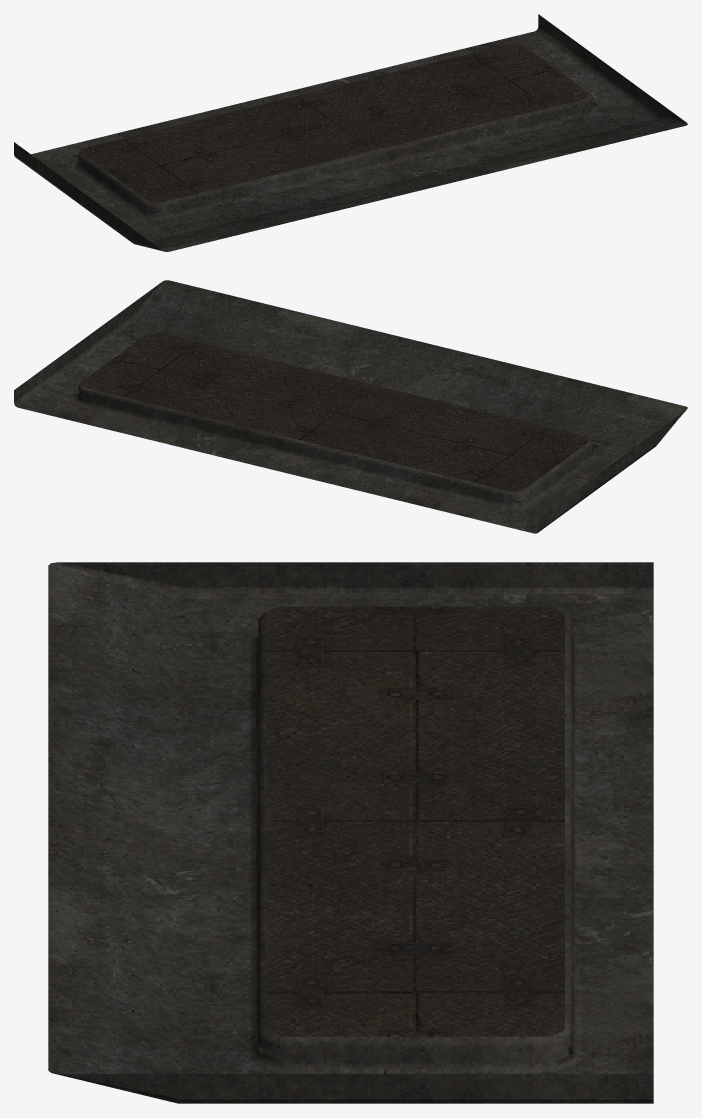
The model's file is ceiling_peace_1.glb.
3 views of the same model, one above another, from view 1: azimuth 30°, elevation 25°; view 2: azimuth 150°, elevation 25°; view 3: azimuth 270°, elevation 25° (orthographic). The views are drawn at different scales.
Visible parts, largest first — view 1: ceiling_peace_1; view 2: ceiling_peace_1; view 3: ceiling_peace_1.
Boxes of the visible parts, x1,y1,x2,y2 form: ceiling_peace_1: [14, 14, 687, 251]; ceiling_peace_1: [14, 280, 687, 533]; ceiling_peace_1: [48, 562, 653, 1103].
Bounding box in the file's own units: 3 × 0.09 × 1.5.
Materials: 3 (3 with a texture image).
